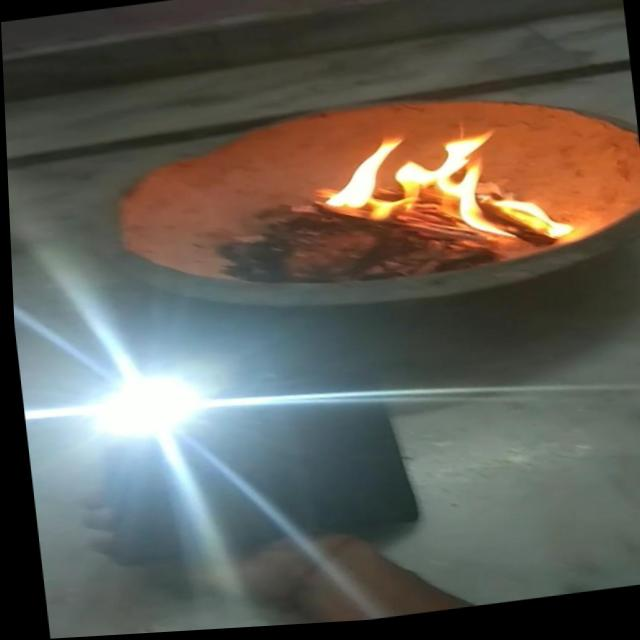fire: (312, 116, 579, 276)
